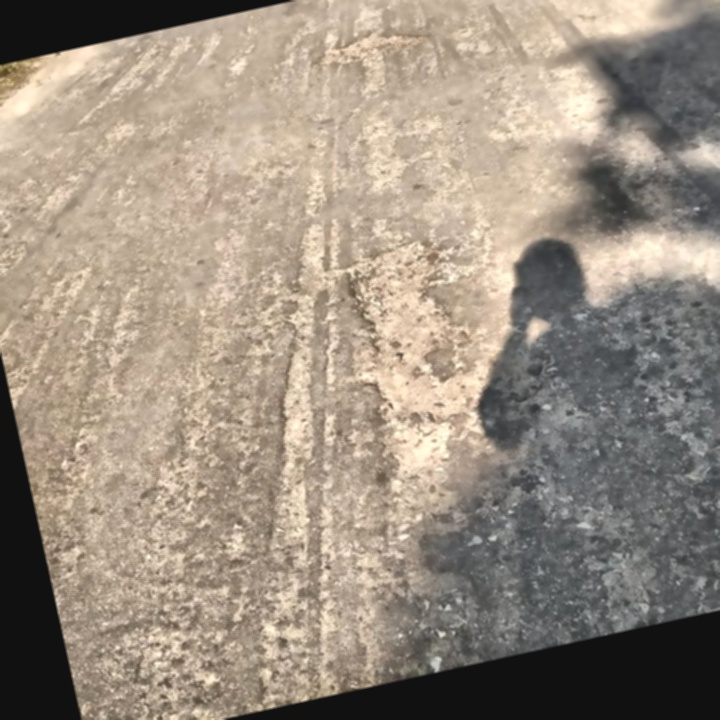pothole: (331, 226, 513, 485), (312, 18, 434, 79)
